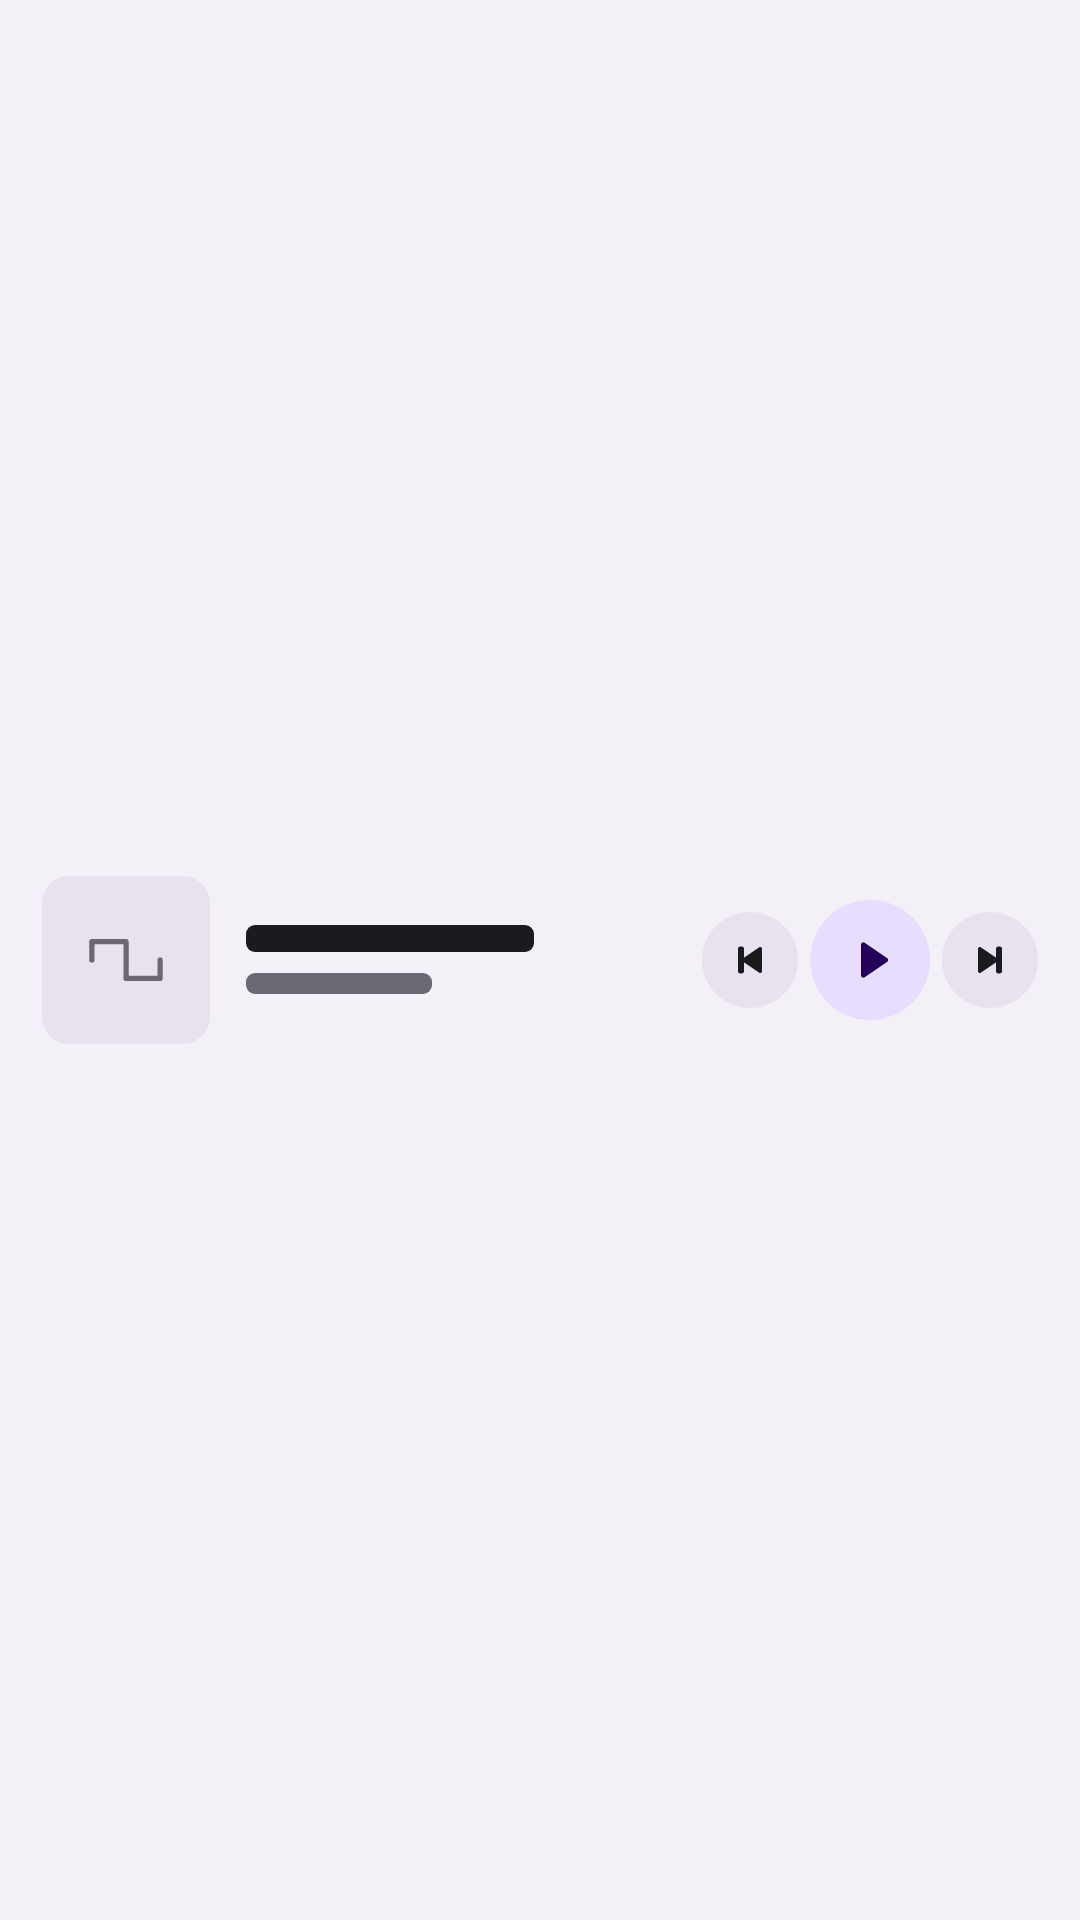

Icons on this 1080w x 1920h Android screen, each with the point to tap as (x,y):
widget next: (990,960)
widget play: (875,960)
widget previous: (750,960)
